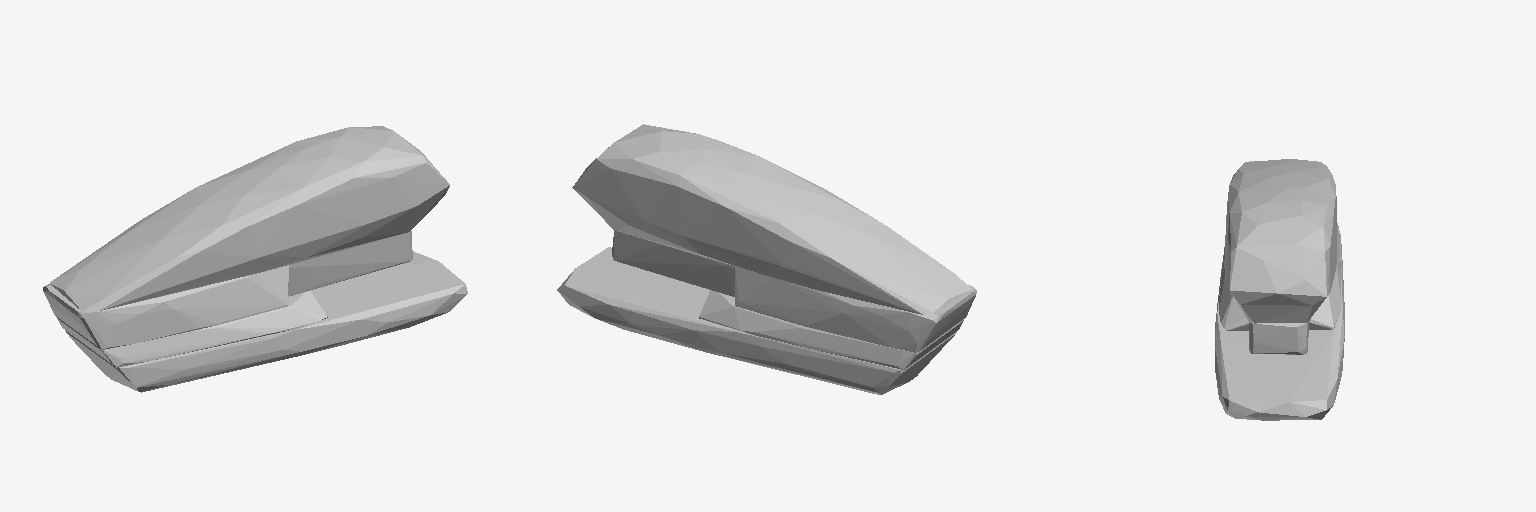
The model's file is stapler_vhacd.obj.
The picture shows the model from 3 angles: view 1: azimuth 30°, elevation 25°; view 2: azimuth 150°, elevation 25°; view 3: azimuth 270°, elevation 25°; orthographic projection.
Parts seen in each view (by area): view 1: convex_2, convex_0, convex_3, convex_1, convex_4; view 2: convex_2, convex_0, convex_3, convex_1, convex_4; view 3: convex_2, convex_0, convex_1, convex_4.
Boxes of the visible parts, box(x1,y1,x2,y2) form: convex_2: box(50, 126, 449, 311); convex_0: box(65, 251, 467, 392); convex_3: box(43, 265, 288, 349); convex_1: box(56, 290, 327, 367); convex_4: box(288, 231, 412, 296); convex_2: box(572, 124, 971, 314); convex_0: box(557, 247, 956, 394); convex_3: box(734, 266, 976, 352); convex_1: box(699, 290, 963, 369); convex_4: box(612, 230, 733, 296); convex_2: box(1224, 159, 1336, 323); convex_0: box(1215, 231, 1344, 420); convex_1: box(1219, 223, 1340, 330); convex_4: box(1249, 320, 1309, 354).
Size of the model in its own units: 0.1219 by 0.0534 by 0.0354.